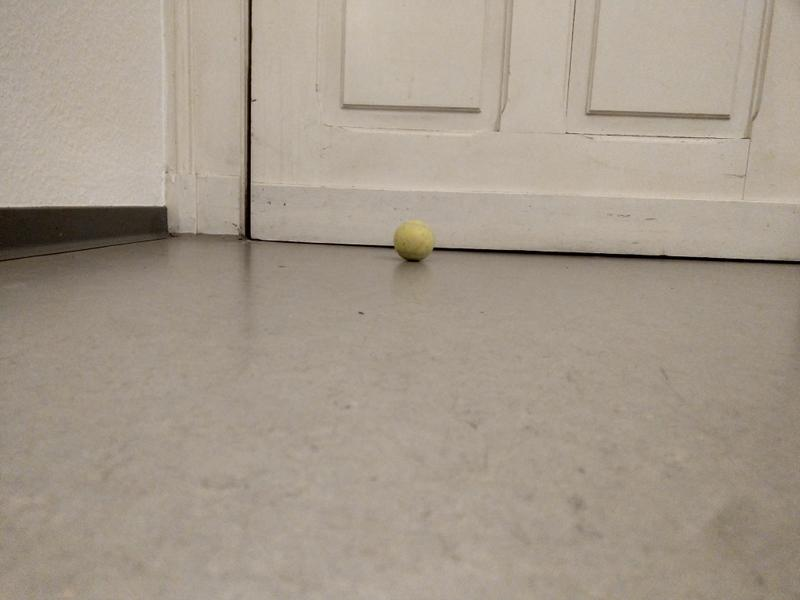Tennisball: (391, 218, 436, 265)
